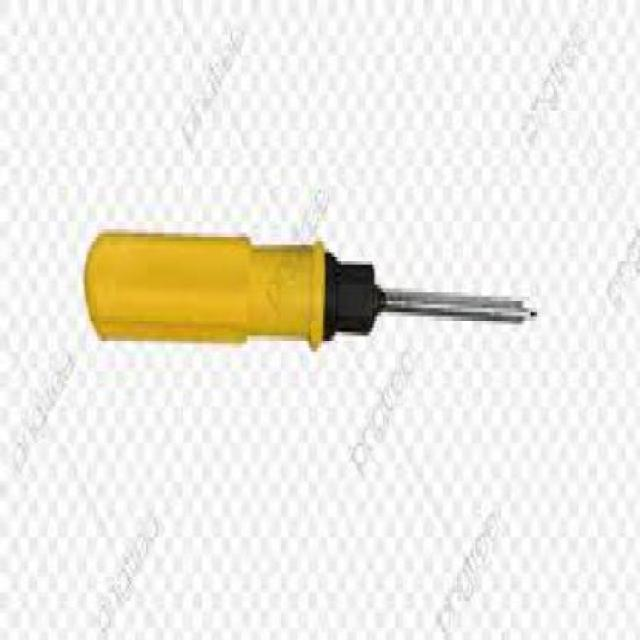screwdriver: (80, 222, 540, 368)
